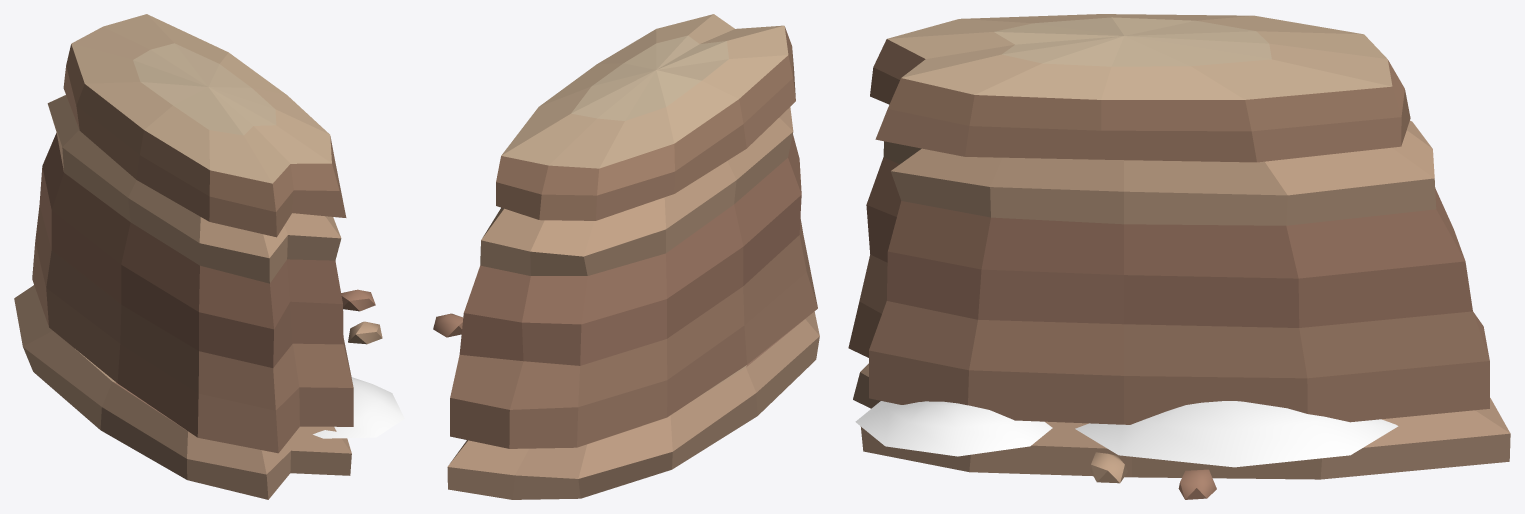
Rendered from roca_canon_b_ligero.glb.
3 views of the same model, side by side, from view 1: azimuth 30°, elevation 25°; view 2: azimuth 150°, elevation 25°; view 3: azimuth 270°, elevation 25° (orthographic). The views are drawn at different scales.
Visible parts, largest first — view 1: roca_canon_b, roca_canon_b_arena; view 2: roca_canon_b; view 3: roca_canon_b, roca_canon_b_arena.
Boxes of the visible parts, left/top/right/bottom form: roca_canon_b: left=14, top=14, right=382, bottom=499; roca_canon_b_arena: left=313, top=377, right=404, bottom=438; roca_canon_b: left=433, top=14, right=819, bottom=499; roca_canon_b: left=848, top=14, right=1510, bottom=499; roca_canon_b_arena: left=855, top=401, right=1398, bottom=467.
Size of the model in its own units: 8.24 by 8.48 by 12.92.
